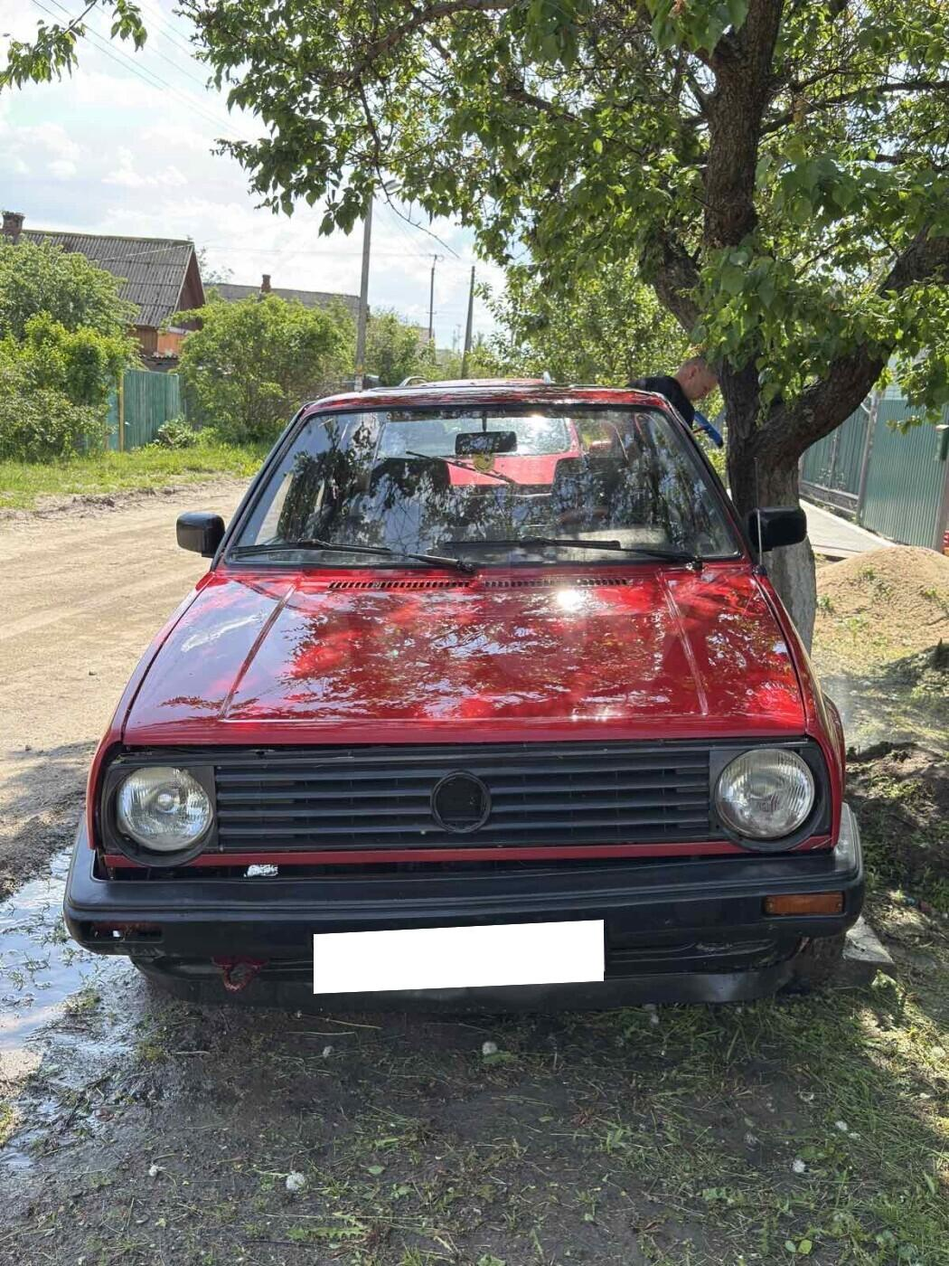Golf_1983-1992: (65, 373, 879, 1015)
